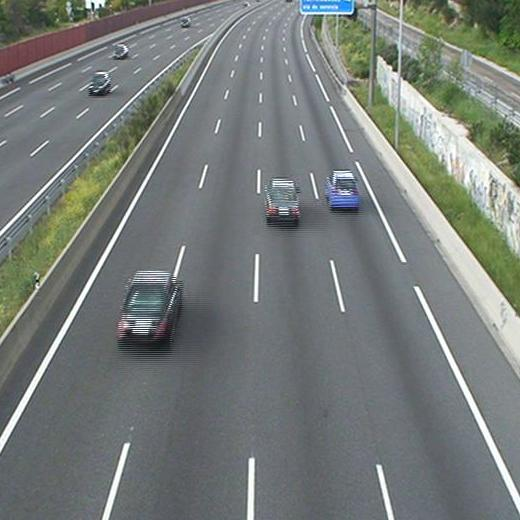car: (118, 271, 181, 342), (266, 180, 299, 219), (326, 172, 358, 206)
